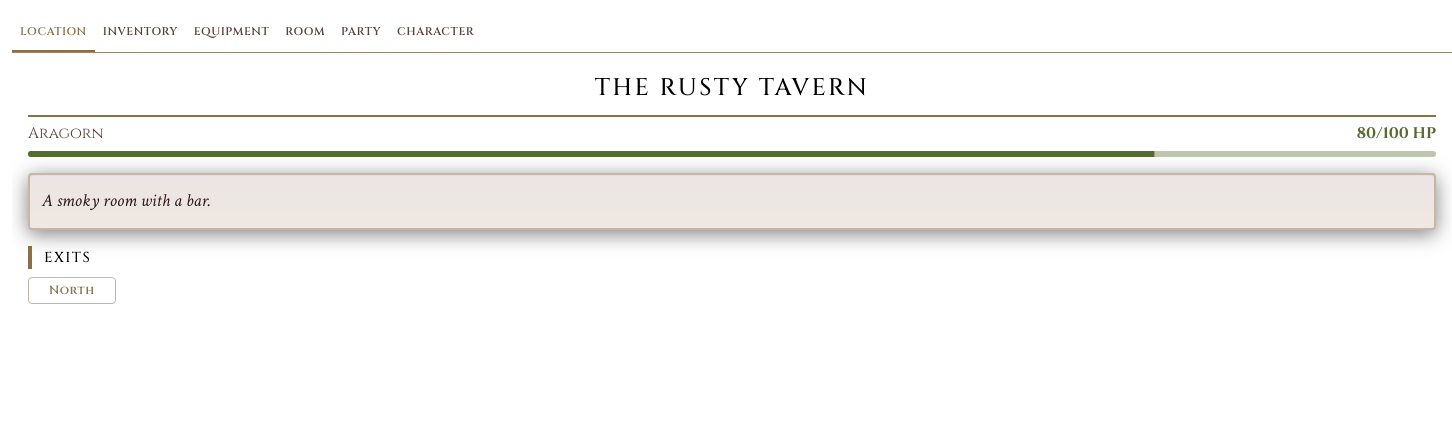
Test case: GameInfo › shows equipment slots on Equipment tab
Click the tab "Equipment" at coordinates (232, 32), box [186,12,277,52]
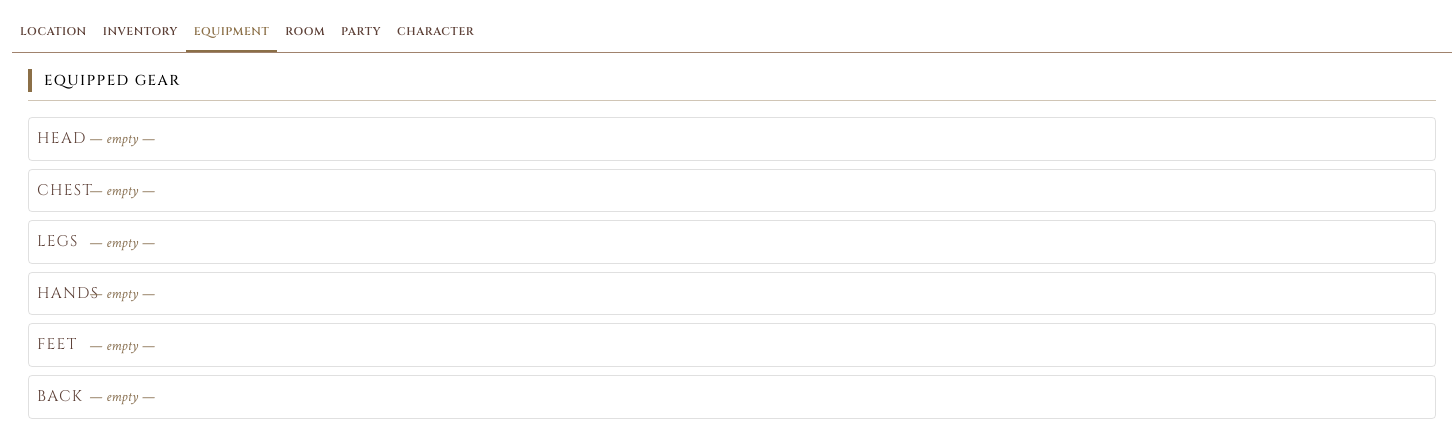
Now the text "Head" is shown, box [37,126,81,152]
Now the text "Chest" is shown, box [37,178,81,203]
